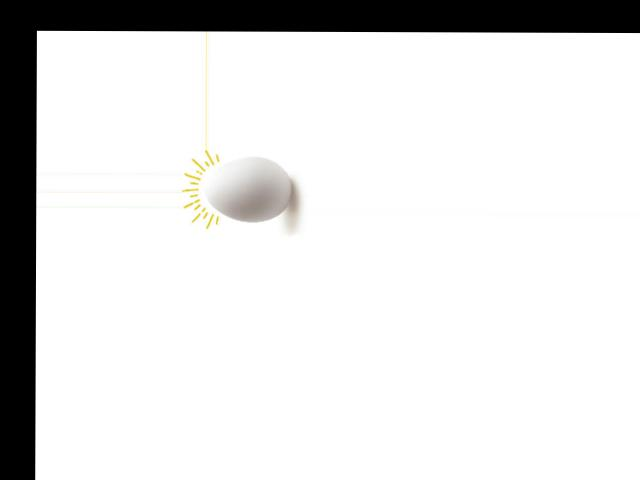egg: (205, 155, 291, 221)
